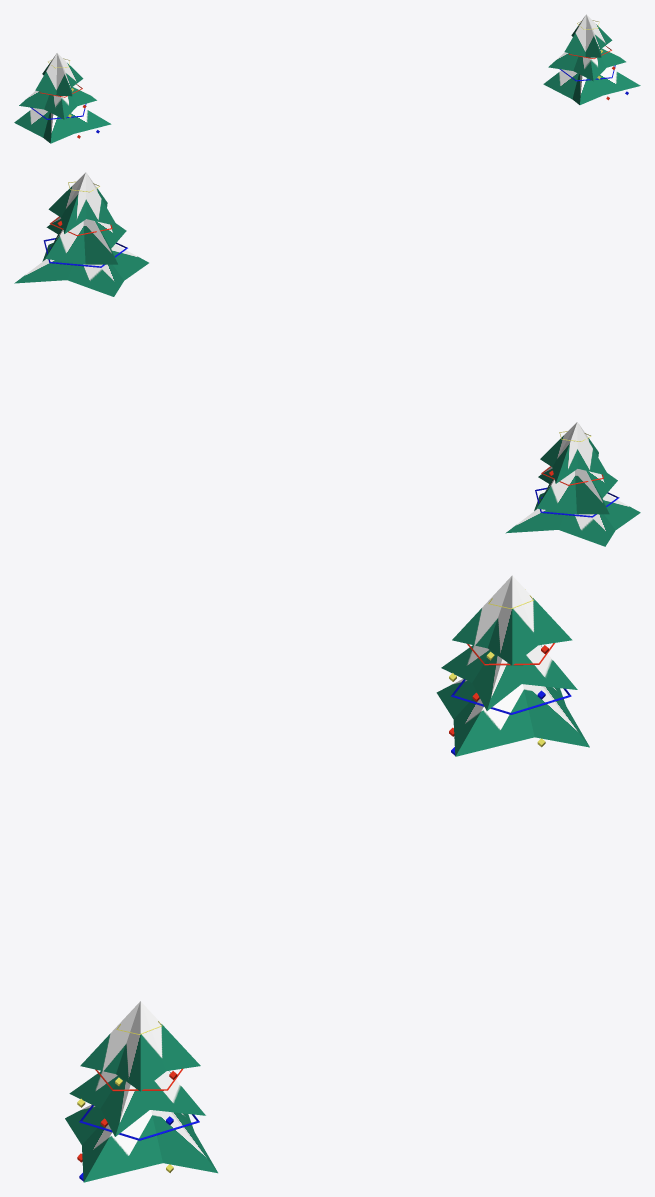
Rendered from navidadTree.glb.
3 renders of one model, top to bottom at view 1: azimuth 30°, elevation 25°; view 2: azimuth 150°, elevation 25°; view 3: azimuth 270°, elevation 25°, orthographic. The views are drawn at different scales.
Parts seen in each view (by area): view 1: arbol; view 2: arbol; view 3: arbol.
Boxes of the visible parts, bbox=[...] form: arbol: bbox=[14, 14, 640, 143]; arbol: bbox=[14, 172, 640, 546]; arbol: bbox=[65, 575, 589, 1182].
Bounding box in the file's own units: 2.3 × 0.3341 × 1.03.
Materials: 4 (1 with a texture image).
